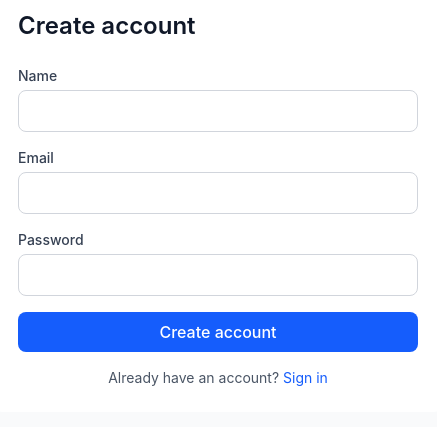
Scenario: RegisterPage › shows email required error when email is empty
Step 1. Type "Alice" into the field labelled "Name" → point(218, 111), box [18,90,418,132]
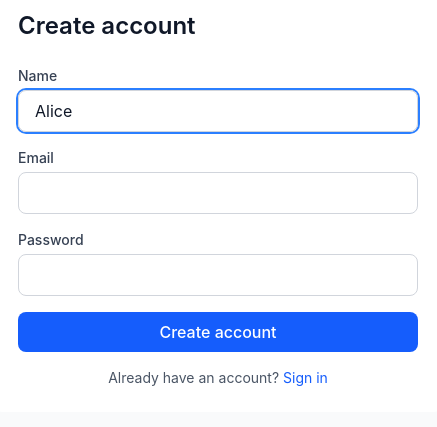
Step 2. Type "password123" into the password field labelled "Password" → point(218, 275), box [18,254,418,296]
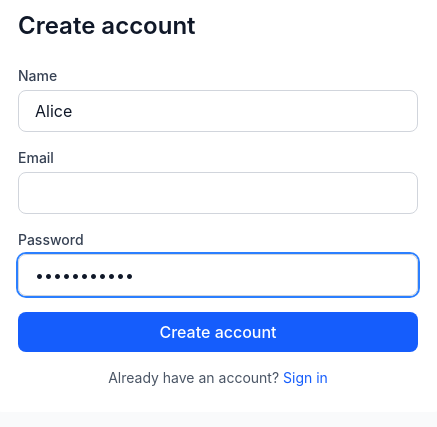
Step 3. Click the button "Create account" → point(218, 332), box [18,312,418,352]
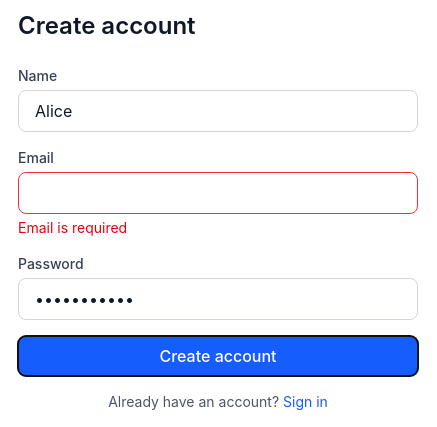
Now the text "Email is required" is shown, box [18,219,127,236]
